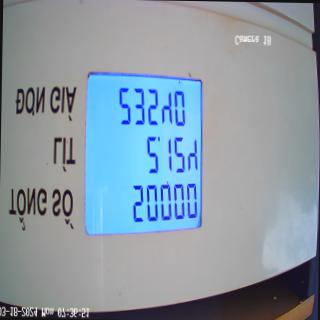screen: (80, 70, 206, 244)
